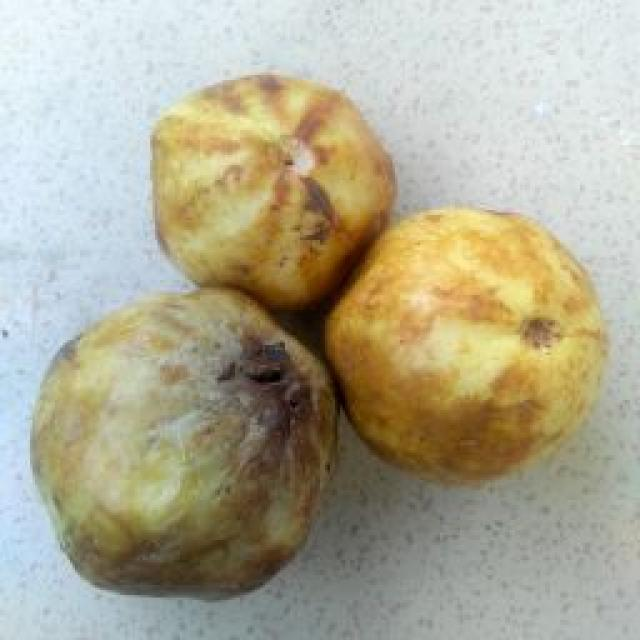Bad_Guava: (31, 288, 338, 597), (151, 74, 395, 309)
